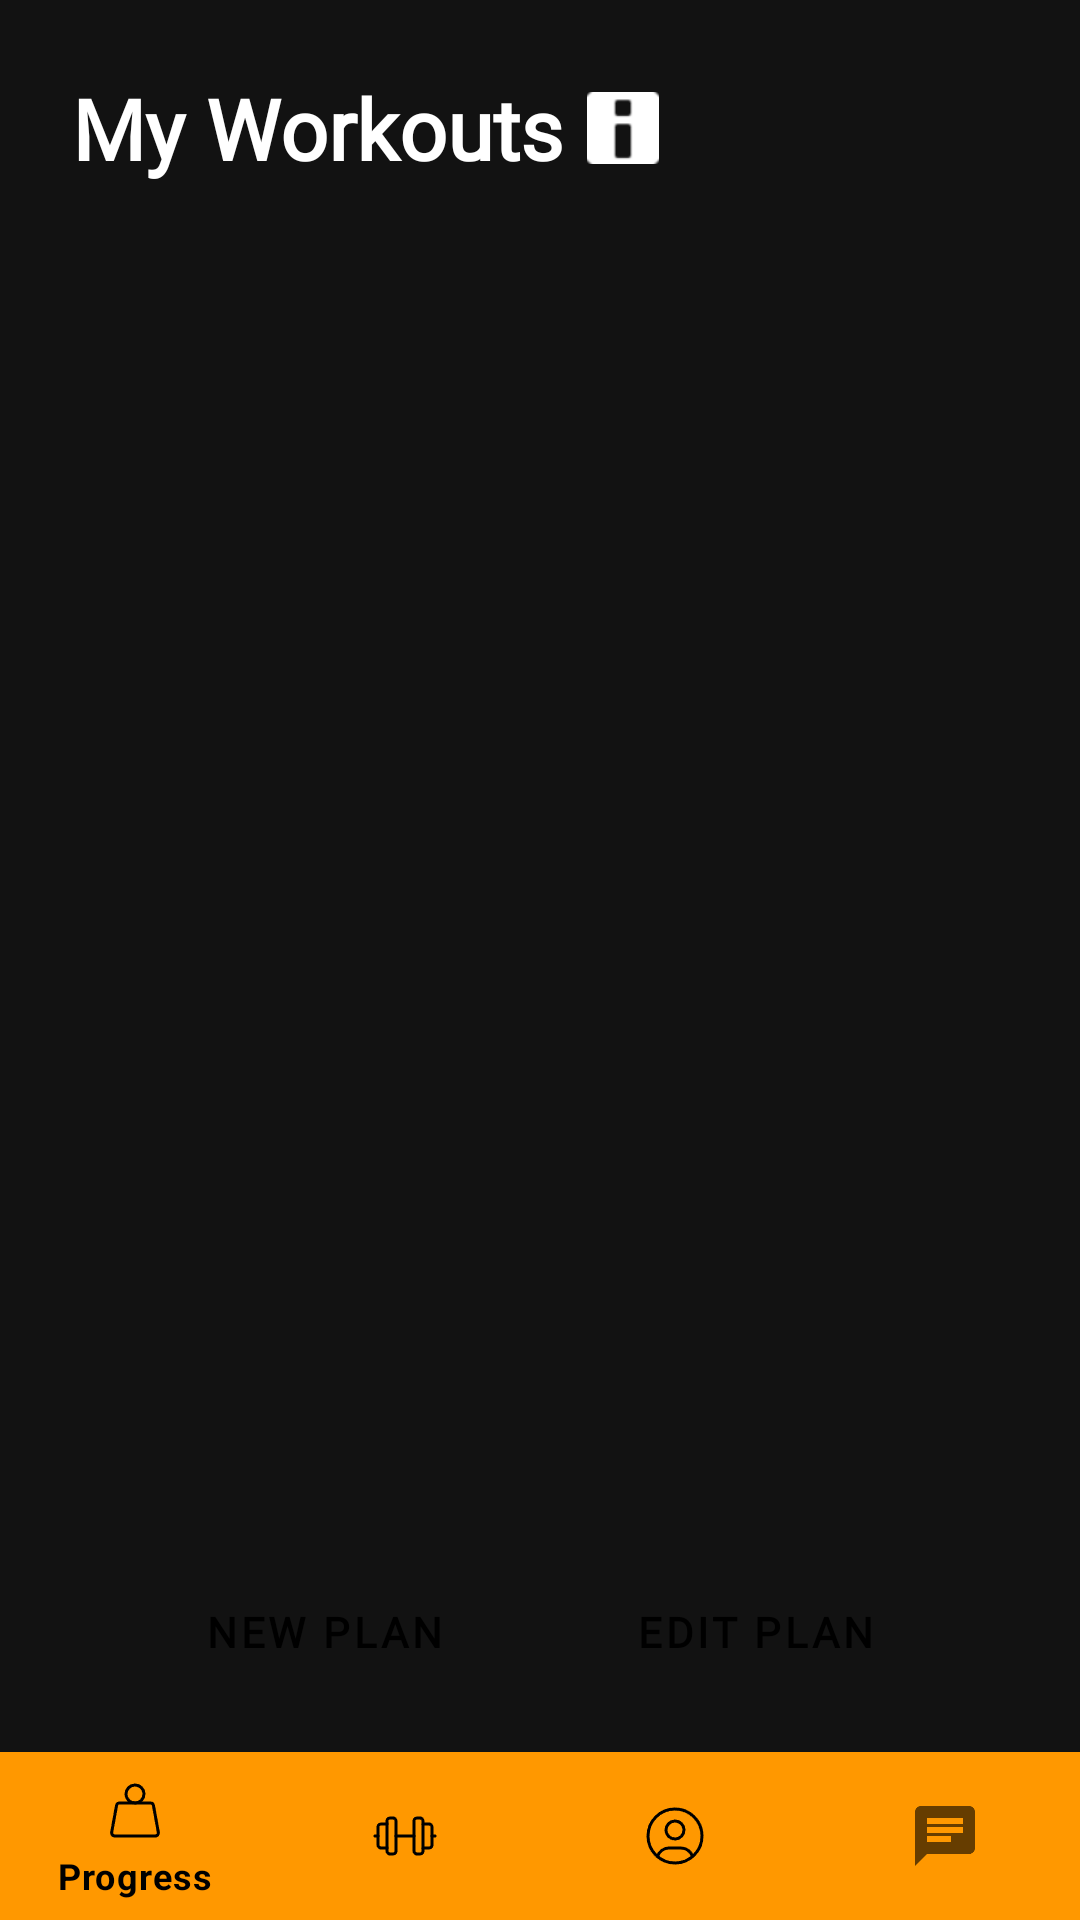

Point at icon controls on the screen. Image size 1080w x 1920h, points as (x=x, y=y).
info: (x=623, y=128)
